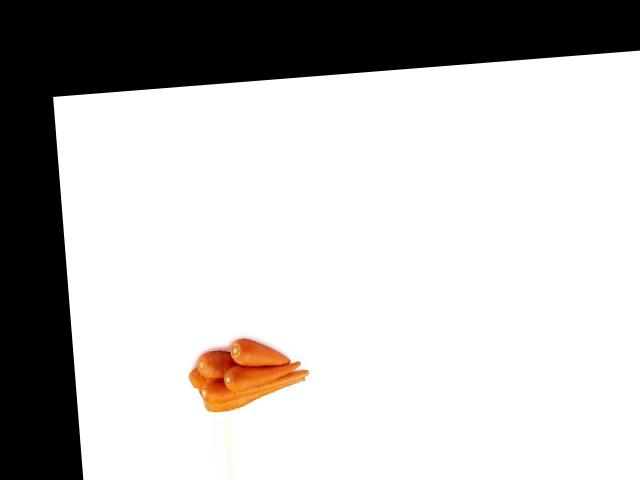carrot: (229, 332, 295, 369)
